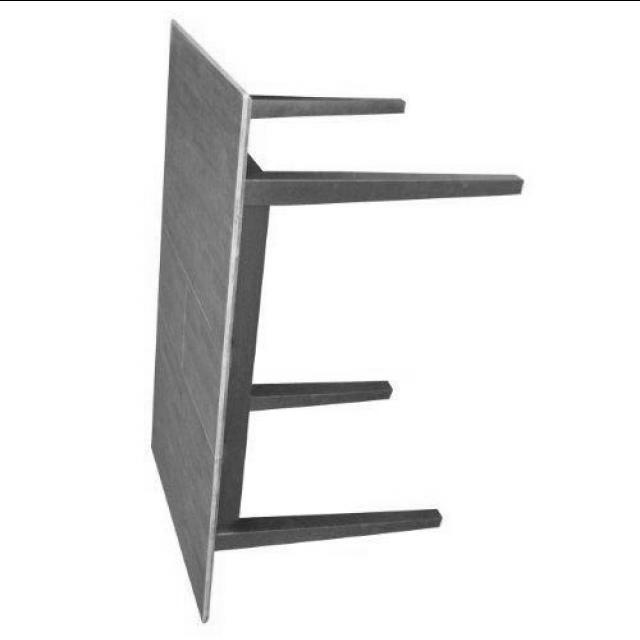table: (150, 19, 526, 621)
